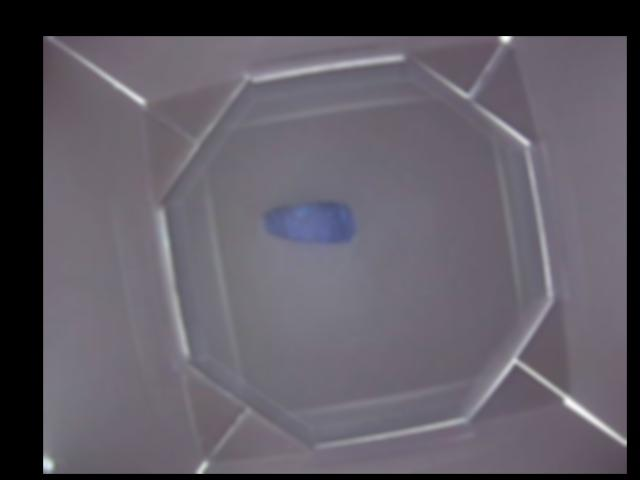Mooli: (261, 200, 355, 244)
